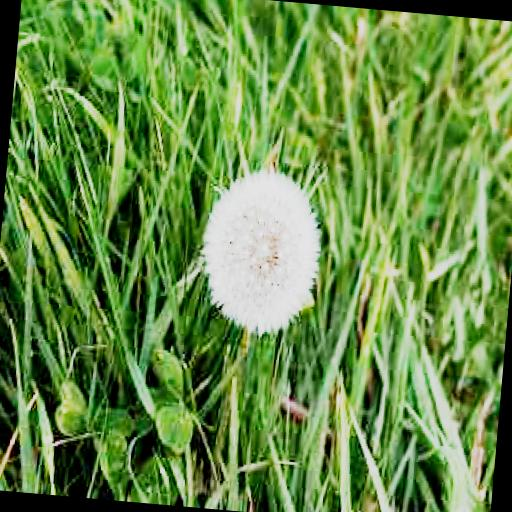dandelion: (193, 168, 327, 341)
